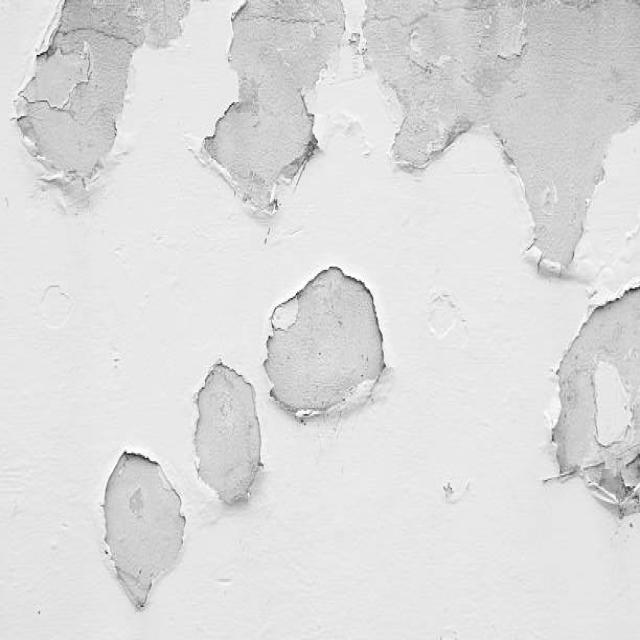peeling paint: (7, 0, 640, 620)
